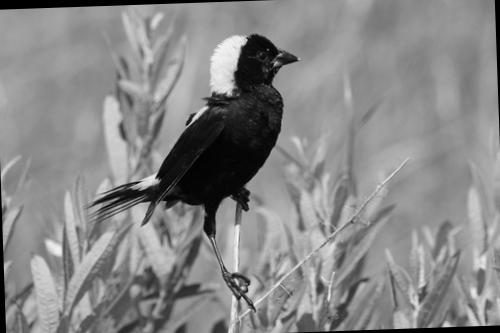bird: (73, 24, 314, 318)
